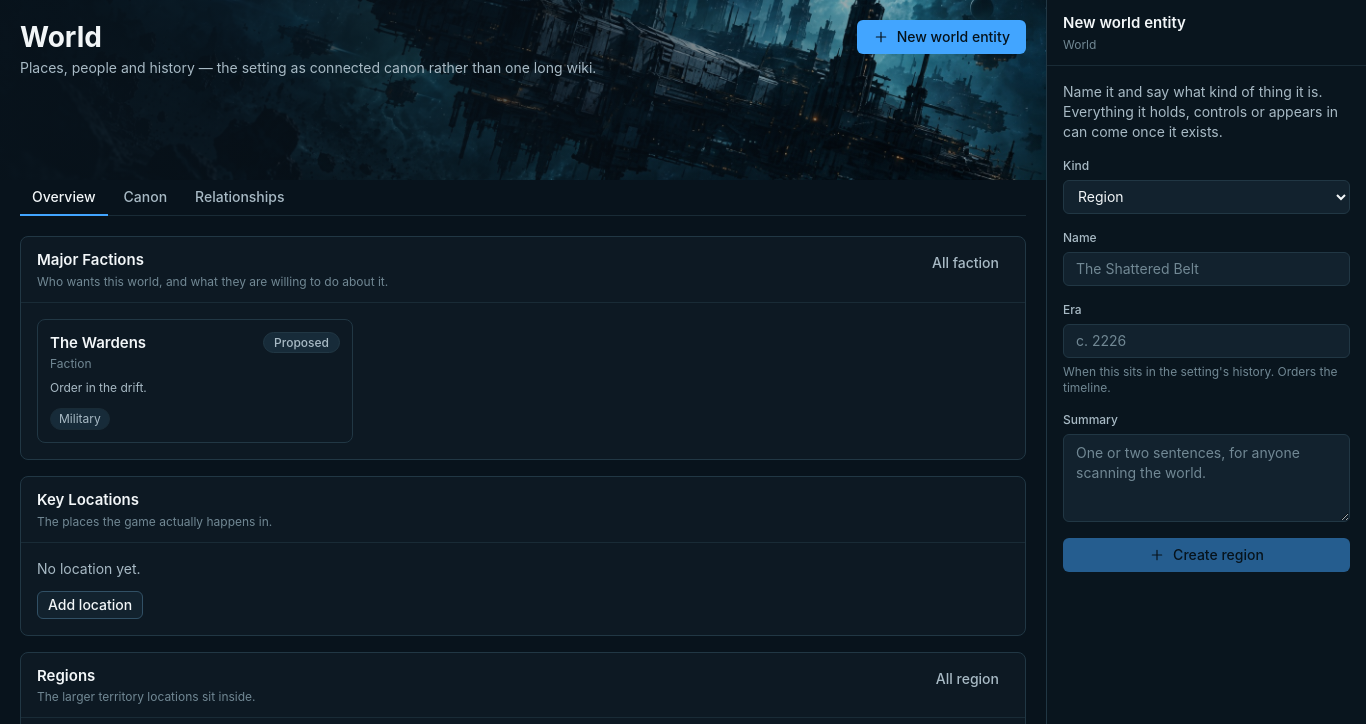
Scenario: World workspace › relationships › answers who holds a place and what is at stake there
expect the heading "Major Factions" is shown: met, box [37,250,144,269]
Click the tab "Relationships".
click(240, 198)  # box [183,180,296,216]
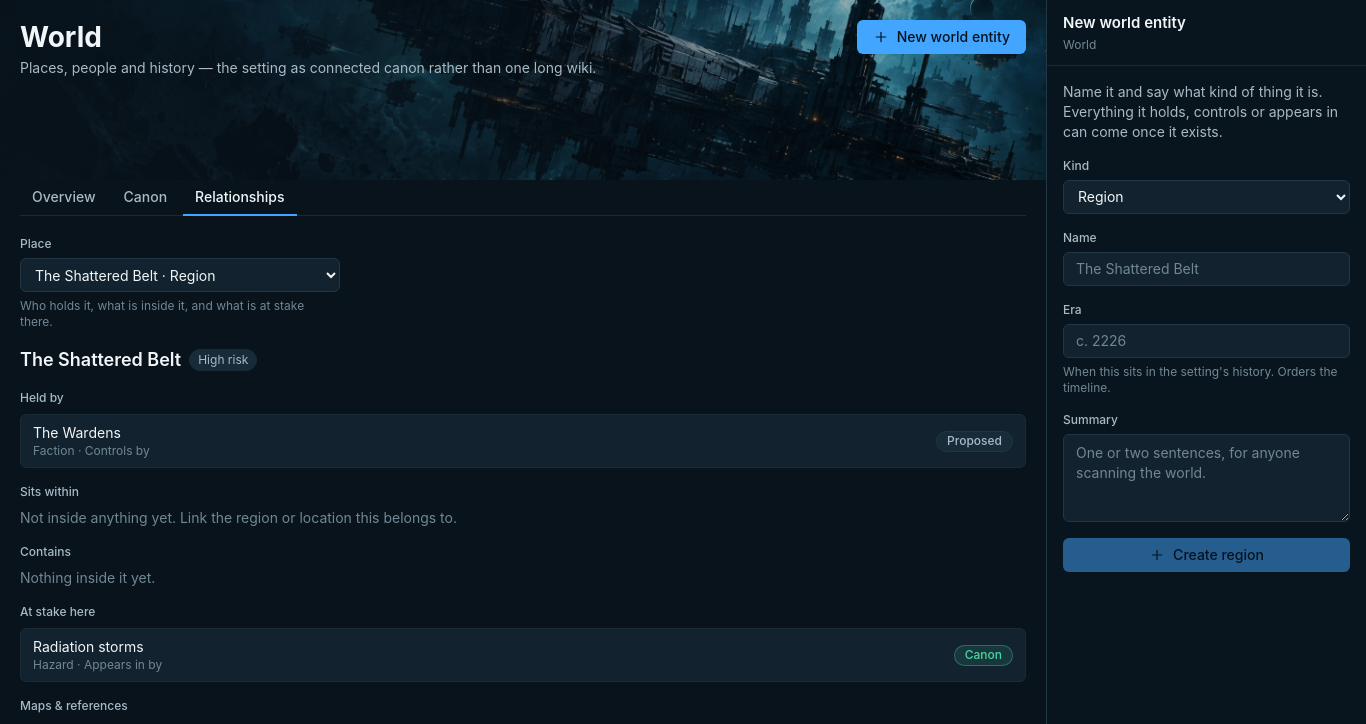
expect the heading "Held by" is shown: met, box [20,390,64,405]
expect the button with aria-label "Open The Wardens" is shown: met, box [20,414,1026,468]
expect the button with aria-label "Open Radiation storms" is shown: met, box [20,628,1026,682]
